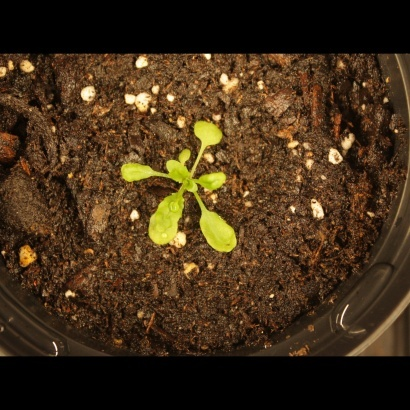leaf: (194, 208, 245, 255), (145, 193, 187, 247), (188, 114, 228, 151), (118, 159, 158, 187), (163, 159, 195, 186), (196, 170, 231, 194), (176, 140, 199, 163)
